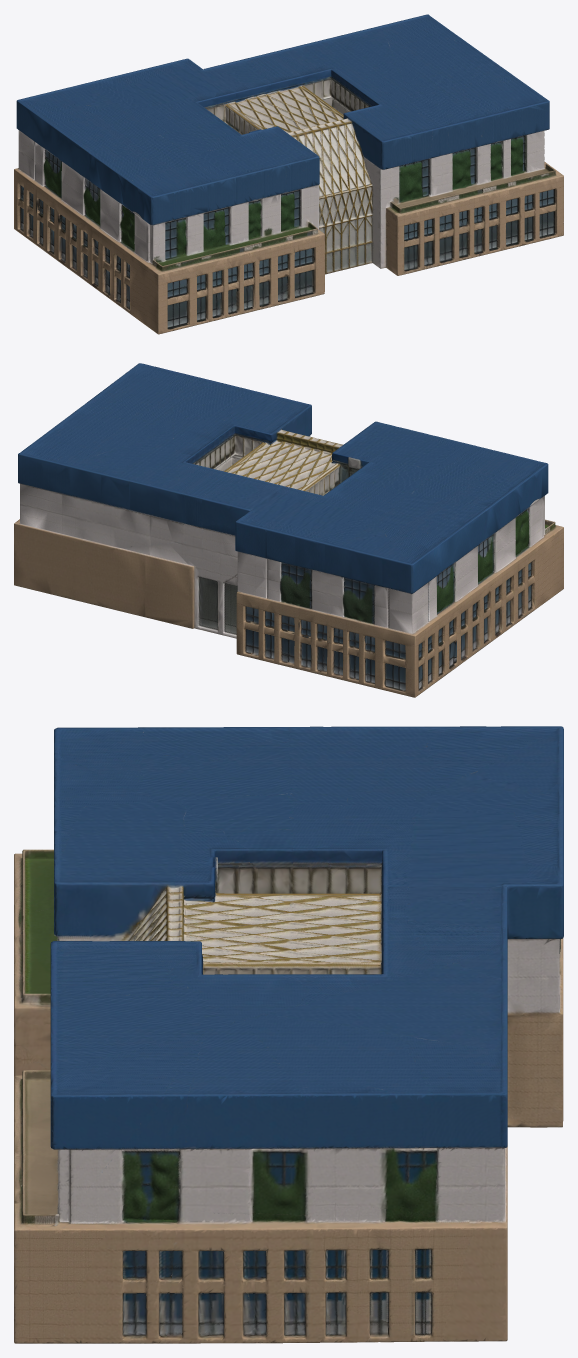
Rendered from bluehall.glb.
3 views of the same model, one above another, from view 1: azimuth 30°, elevation 25°; view 2: azimuth 150°, elevation 25°; view 3: azimuth 270°, elevation 25° (orthographic). The views are drawn at different scales.
Parts seen in each view (by area): view 1: mesh_node; view 2: mesh_node; view 3: mesh_node.
Boxes of the visible parts, box(x1,y1,x2,y2) form: mesh_node: box(14, 14, 563, 334); mesh_node: box(14, 363, 563, 697); mesh_node: box(14, 726, 563, 1343).
Size of the model in its own units: 1.9 by 0.5775 by 1.18.
1 material, 1 textured.
